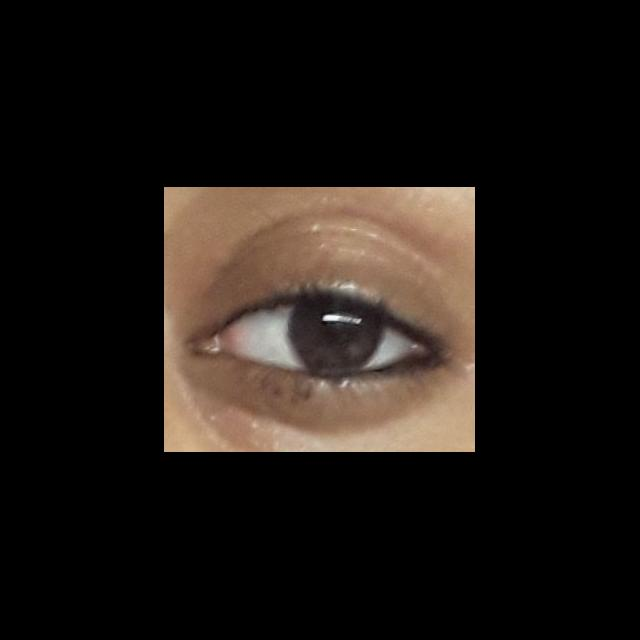eye: (223, 300, 433, 375)
iris: (288, 302, 386, 372)
